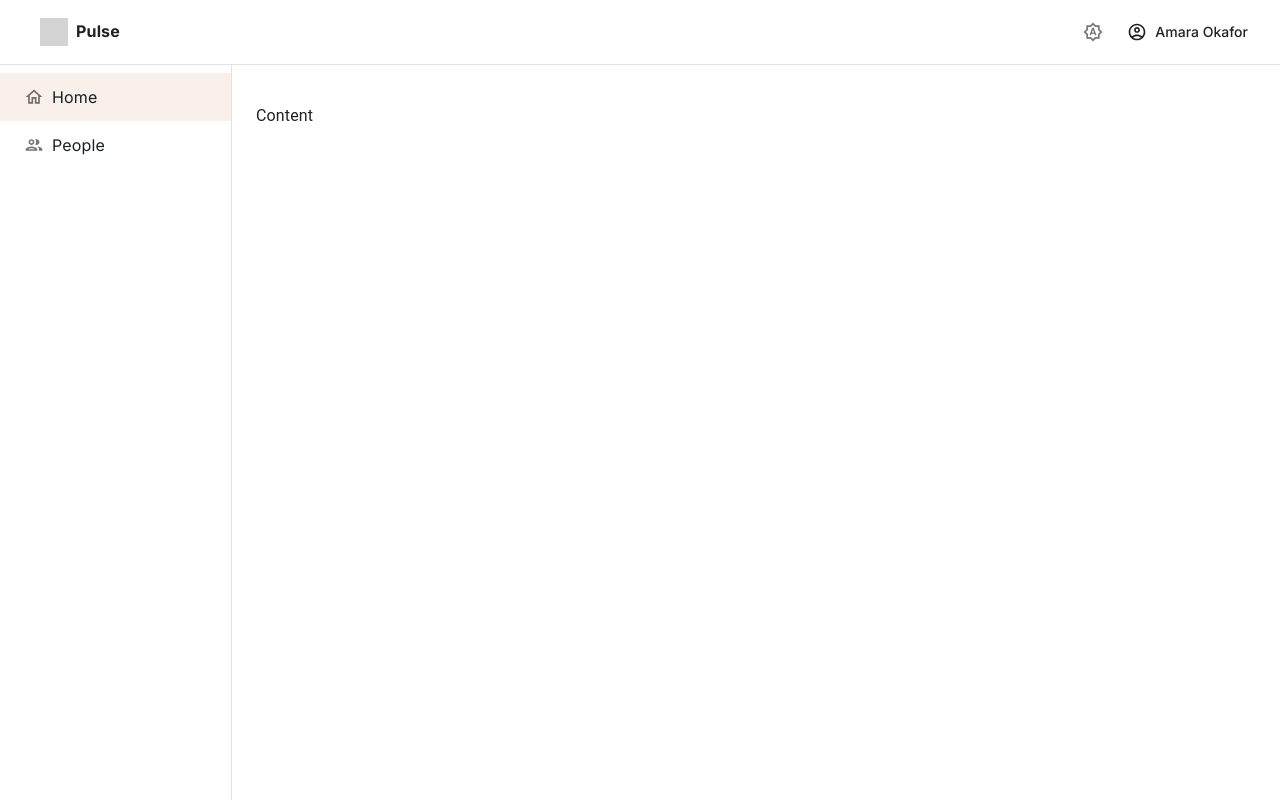
Test: AppShell › keeps sign out inside the account menu rather than in the bar itself
The image size is (1280, 800).
Expected: the menu item "sign out" is not shown
What coordinates should you click on to do the following:
click the button "Amara Okafor"
I would click on:
 (1190, 32)
Its box is [1123,10,1256,54].
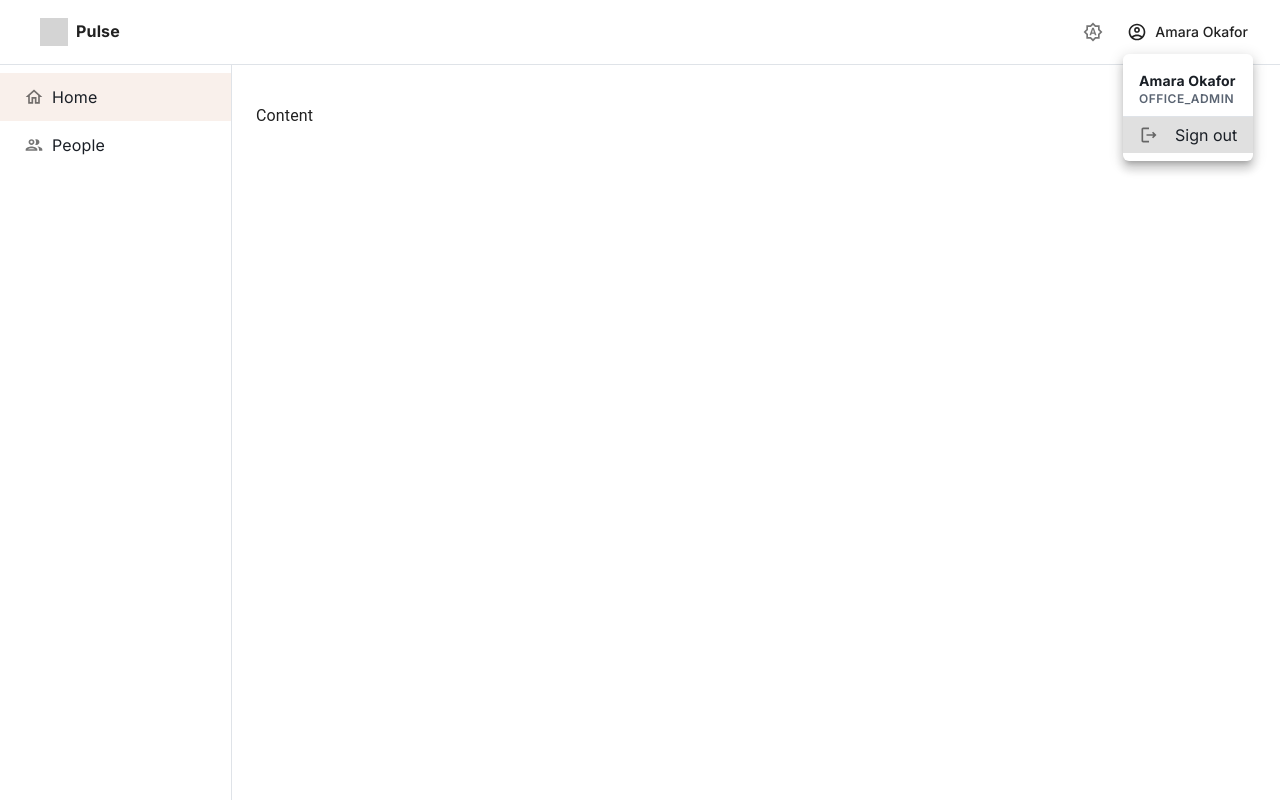
Expected: the menu item "Sign out" is shown, [1123,117,1253,153]
